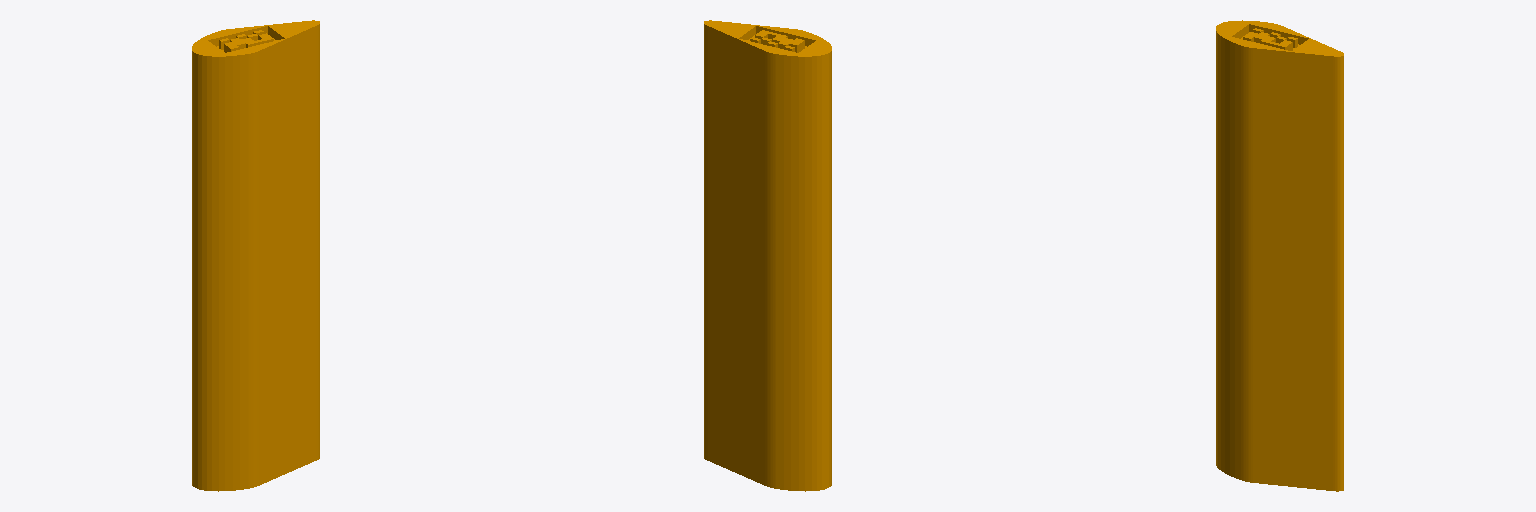
URDF robot description (50x30_Teardrop):
<?xml version="1.0" ?>
<robot name="50x30_Teardrop">

    <link name="50x30_Teardrop">
        <visual>
            <origin rpy="1.5707963267948966 0 0" xyz="-.0025 0 -0.0"/>
            <geometry>
                <mesh filename="Shapes/50x30_teardrop.obj" scale="0.707 1 0.3535"/>
            </geometry>
        </visual>
        <collision>
            <origin rpy="1.5707963267948966 0 0" xyz="-.0025 0 -0.0"/>
            <geometry>
                <mesh filename="Shapes/50x30_teardrop.obj" scale="0.707 1 0.3535"/>
            </geometry>
        </collision>
        <inertial>
            <mass value="0.3"/>
            <inertia ixx="0.000029435425" ixy="0.0" ixz="0.0" iyy="0.000029435425" iyz="0.0" izz="0.00000725805"/>
        </inertial>
    </link>

</robot>

--- What the picture shows (computed from the rendered views, not written in the file) ---
The picture shows the robot from 3 angles, left to right: view 1: azimuth 30°, elevation 25°; view 2: azimuth 150°, elevation 25°; view 3: azimuth 330°, elevation 25°; orthographic projection.
Model 50x30_Teardrop with 1 links and 0 joints (none), rooted at 50x30_Teardrop, posed every joint at zero.
Links seen in each view (by area): view 1: 50x30_Teardrop; view 2: 50x30_Teardrop; view 3: 50x30_Teardrop.
Link boxes in pixels (<box>): 50x30_Teardrop: <box>192,20,319,491</box>; 50x30_Teardrop: <box>704,20,831,491</box>; 50x30_Teardrop: <box>1216,20,1343,491</box>.
Bounding box of the posed robot: 0.0318 × 0.0136 × 0.105 m (x, y, z).
1 mesh visuals loaded from 1 distinct referenced files (1 OBJ).
